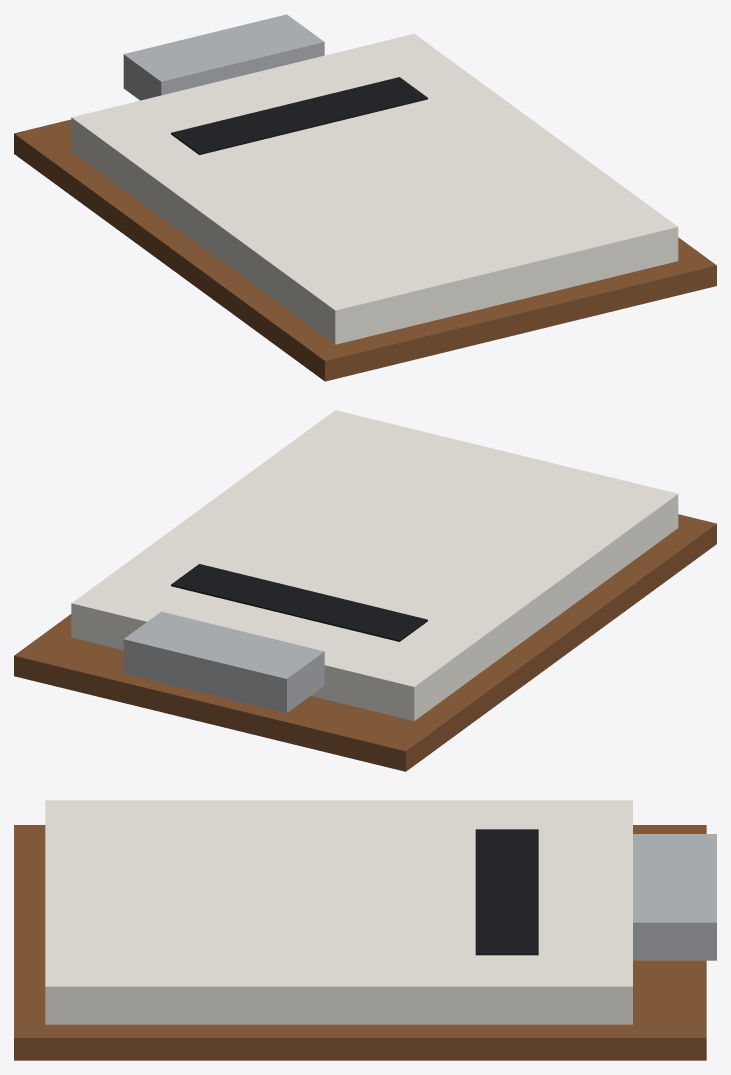
The model's file is script.glb.
The picture shows the model from 3 angles, top to bottom: view 1: azimuth 30°, elevation 25°; view 2: azimuth 150°, elevation 25°; view 3: azimuth 270°, elevation 25°; orthographic projection. The views are drawn at different scales.
Parts seen in each view (by area): view 1: Script; view 2: Script; view 3: Script.
Part boxes in pixels (x1,y1,x2,y2): Script: (14, 14, 716, 381); Script: (14, 410, 716, 771); Script: (14, 800, 716, 1060).
Bounding box in the file's own units: 0.24 × 0.04 × 0.335.
